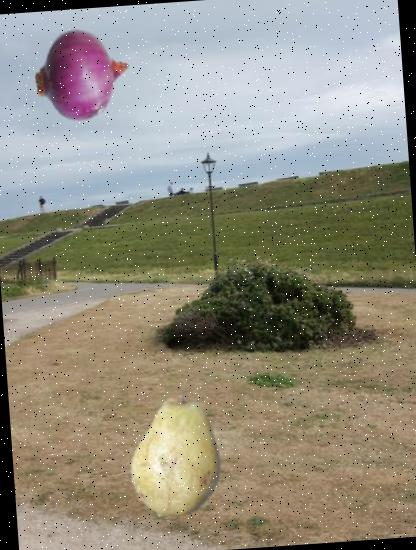Onion: (31, 24, 134, 126)
Pear: (107, 384, 242, 520)
